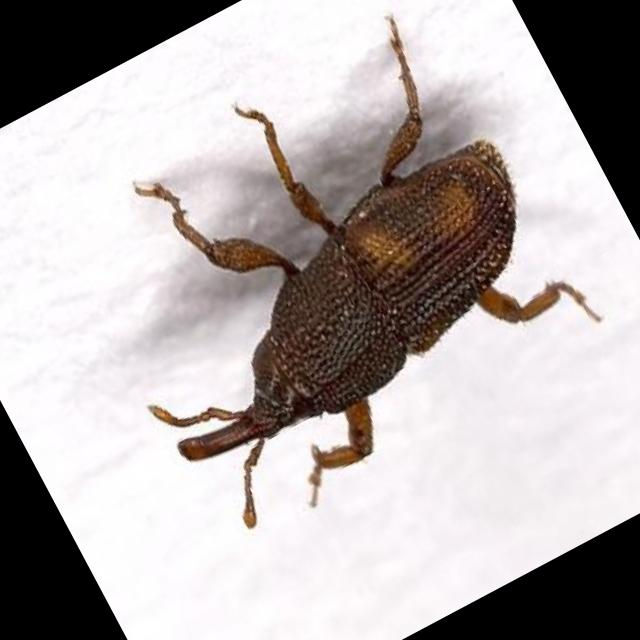rice-bug: (98, 102, 616, 551)
